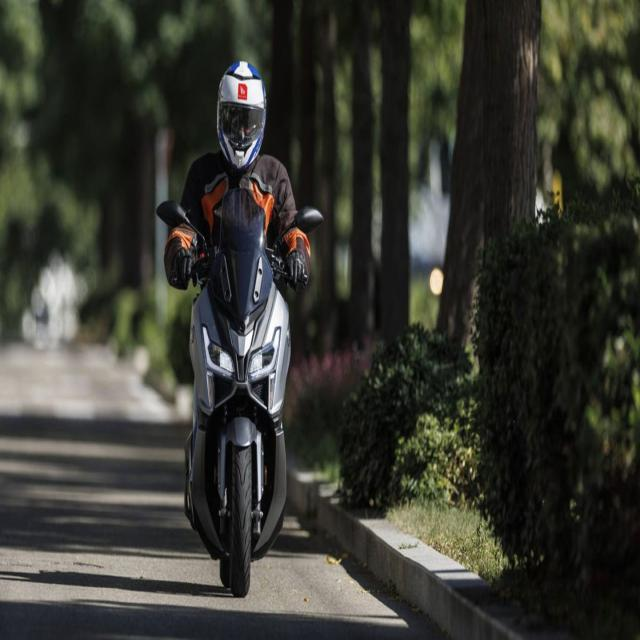MOTORCYCLE: (183, 200, 309, 608)
